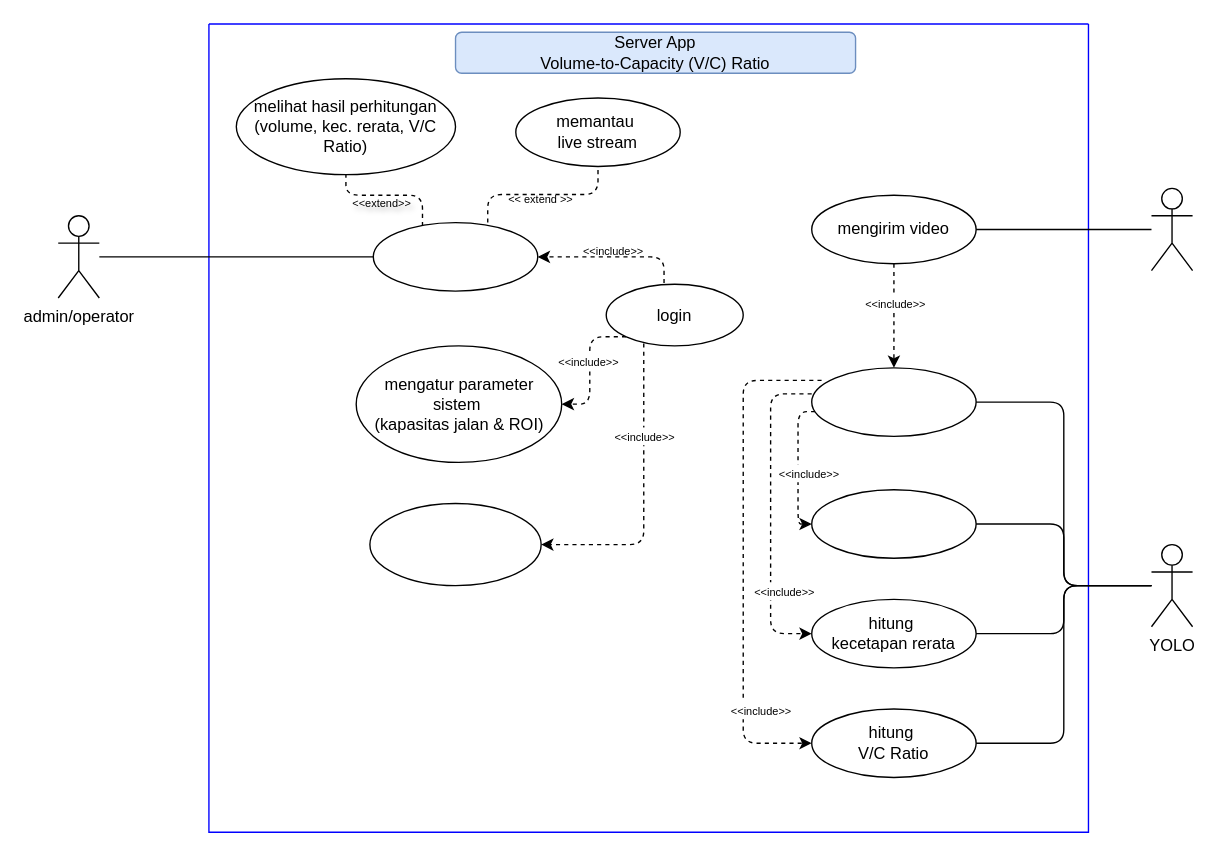
The diagram is 1223 pixels wide and 856 high, and some of its shapes have lost their labels. The box of each missing label's shape, as (x1, y1, x2, y2) in pixels:
deteksi kendaraan: (810, 366, 976, 436)
hitung volume kendaraan: (810, 488, 976, 558)
kamera: (1150, 187, 1193, 271)
memantau dashboard: (372, 221, 538, 291)
mengeksport laporan (excel): (369, 502, 541, 586)
